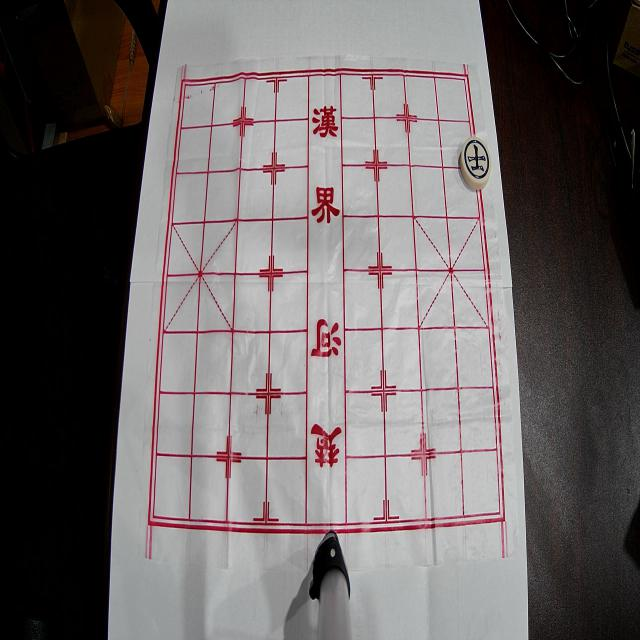black-guard: (460, 136, 492, 190)
